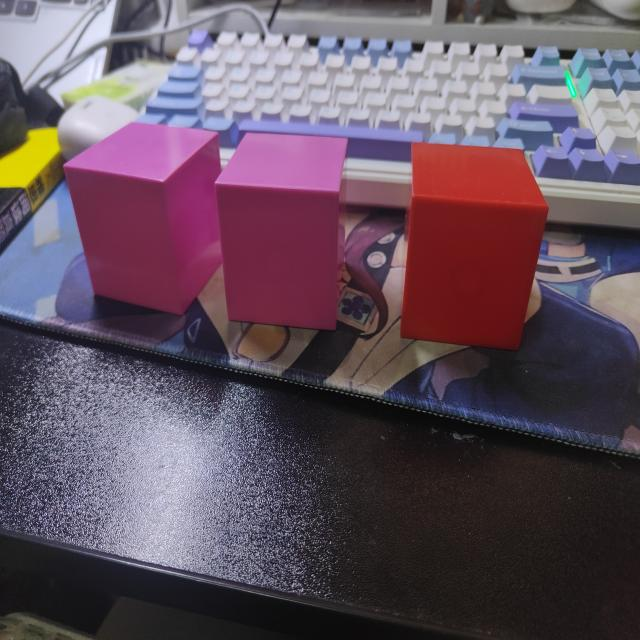pink: (63, 122, 222, 317), (214, 129, 348, 329)
red: (398, 144, 551, 354)
